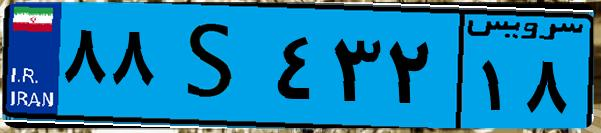1: (475, 38, 525, 113)
2: (385, 28, 445, 110)
3: (330, 28, 385, 110)
4: (270, 28, 330, 110)
8: (57, 26, 110, 100), (525, 38, 570, 115), (110, 28, 158, 98)
S: (158, 12, 270, 120)
